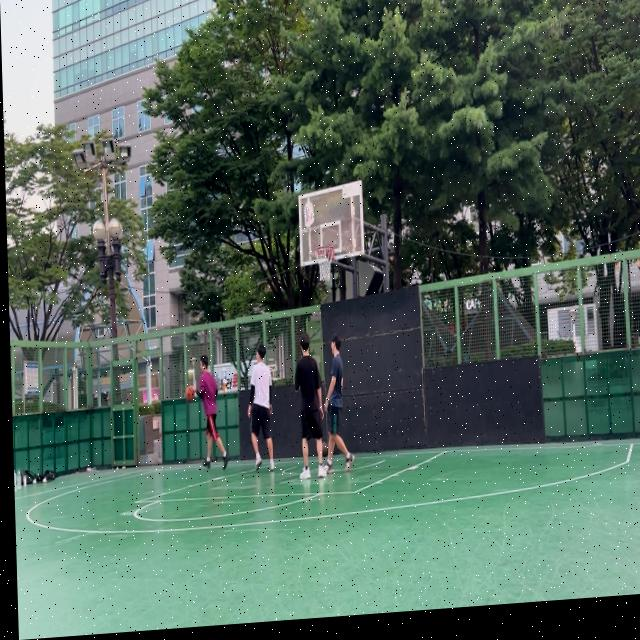basketball: (185, 384, 195, 401), (321, 441, 328, 457)
hoop: (315, 245, 335, 283)
